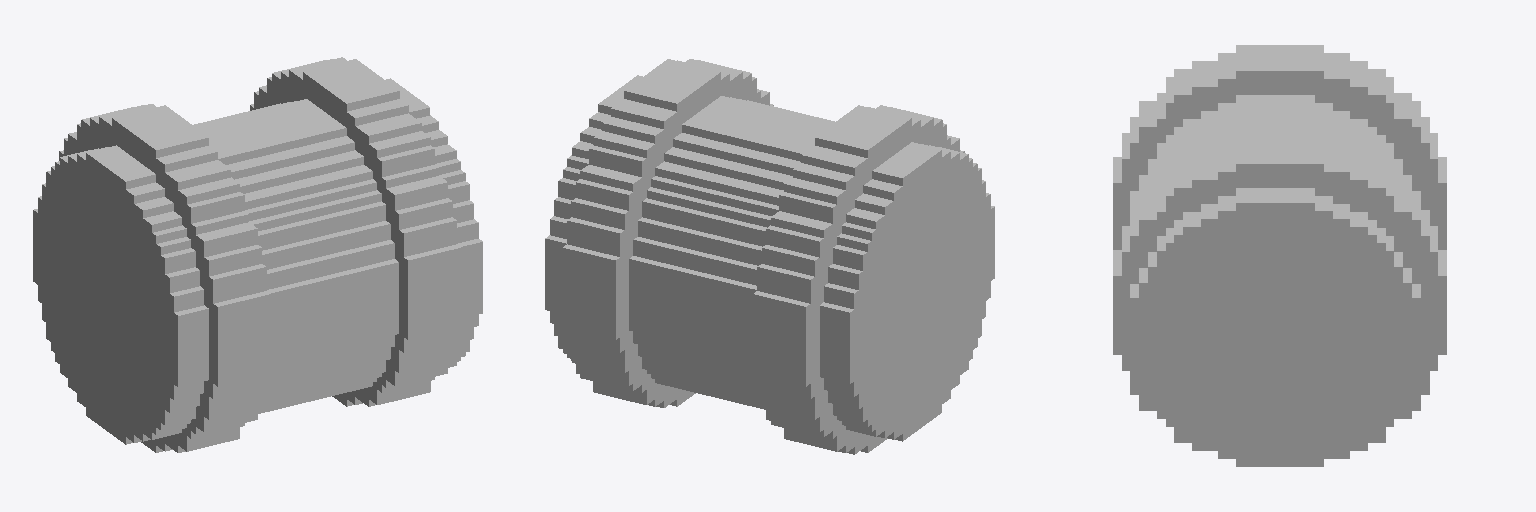
File: fuel.obj
The picture shows the model from 3 angles: view 1: azimuth 30°, elevation 25°; view 2: azimuth 150°, elevation 25°; view 3: azimuth 270°, elevation 25°; orthographic projection.
Parts seen in each view (by area): view 1: object 1; view 2: object 1; view 3: object 1.
Boxes of the visible parts, x1=… form: object 1: x1=33, y1=57, x2=482, y2=452; object 1: x1=545, y1=59, x2=994, y2=454; object 1: x1=1113, y1=45, x2=1446, y2=466.
Bounding box in the file's own units: 4 × 3.8 × 3.8.